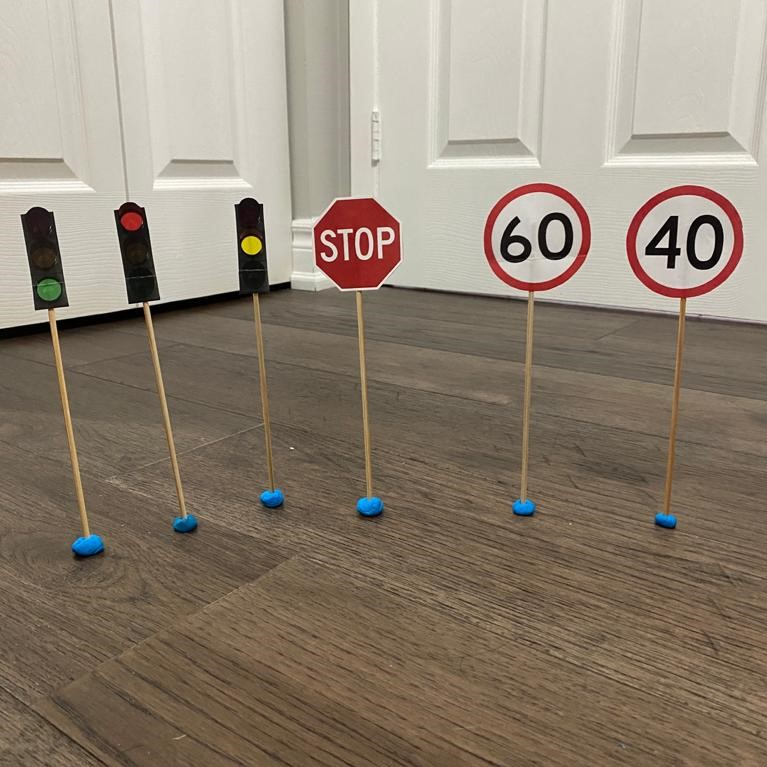Green Traffic Light: (20, 206, 71, 311)
Red Traffic Light: (111, 201, 165, 304)
Speed Limit 40: (622, 183, 745, 298)
Speed Limit 60: (481, 182, 592, 292)
Stop Sign: (310, 196, 404, 297)
